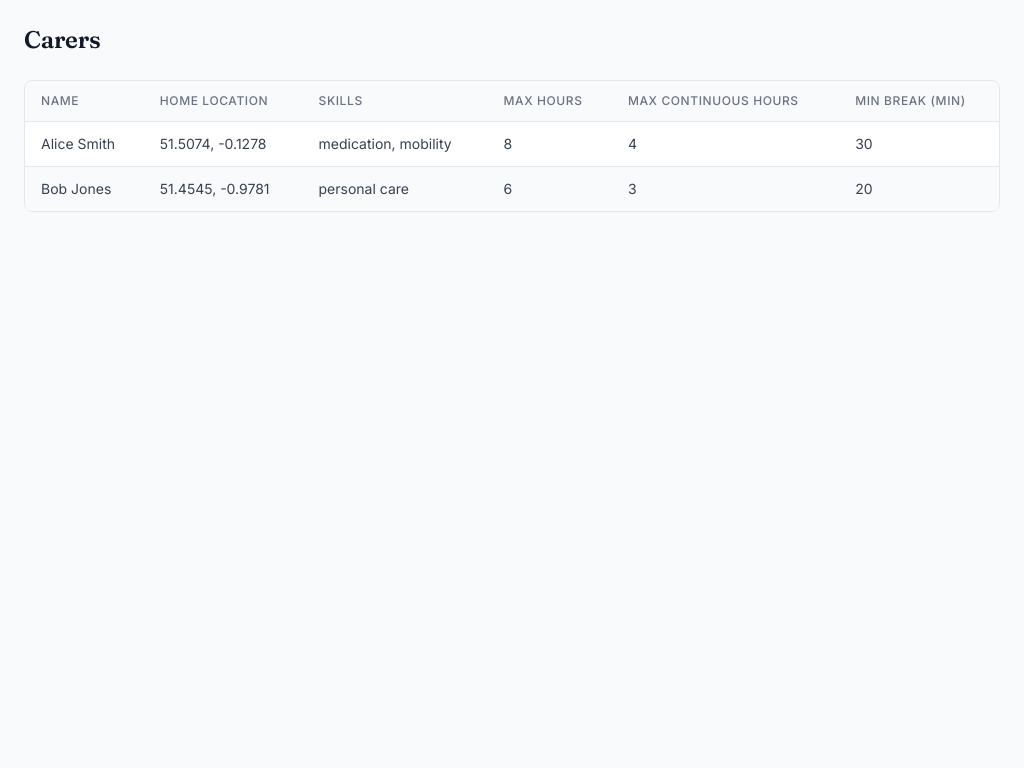
Test: CarersPage › shows error banner on failed update
Click the text "Alice Smith".
click(84, 144)  # box [25,122,144,166]
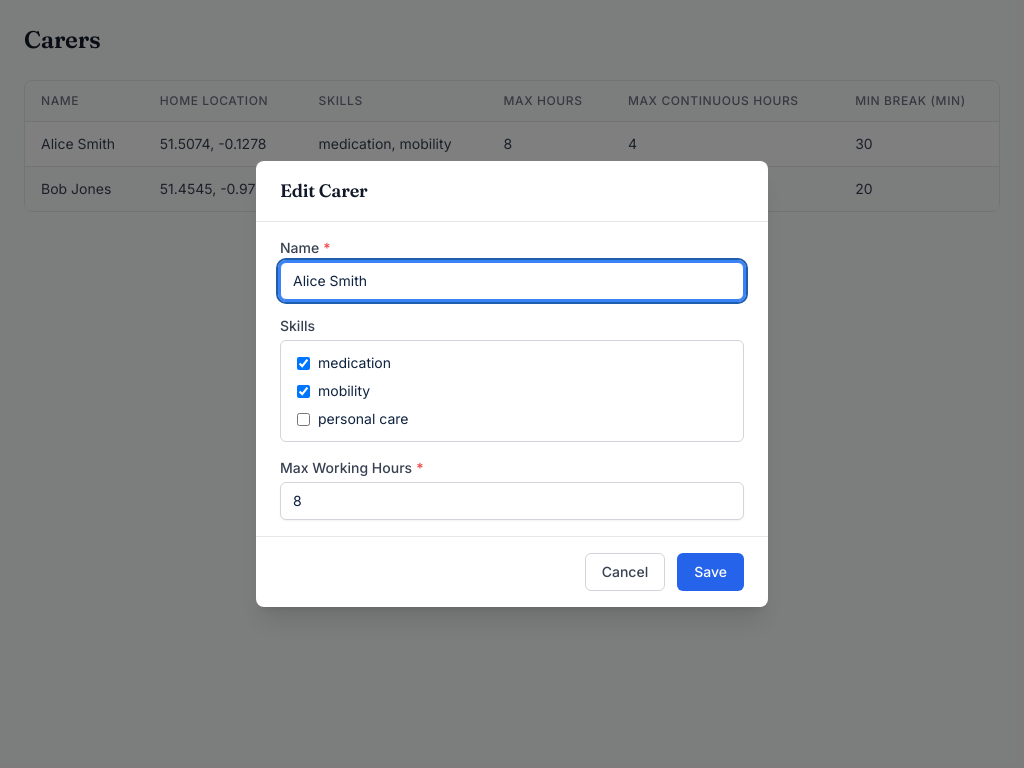
Expected: the heading "Edit Carer" is shown, [280,179,368,202]
Click the button "Save".
click(711, 572)  # box [677,553,744,591]
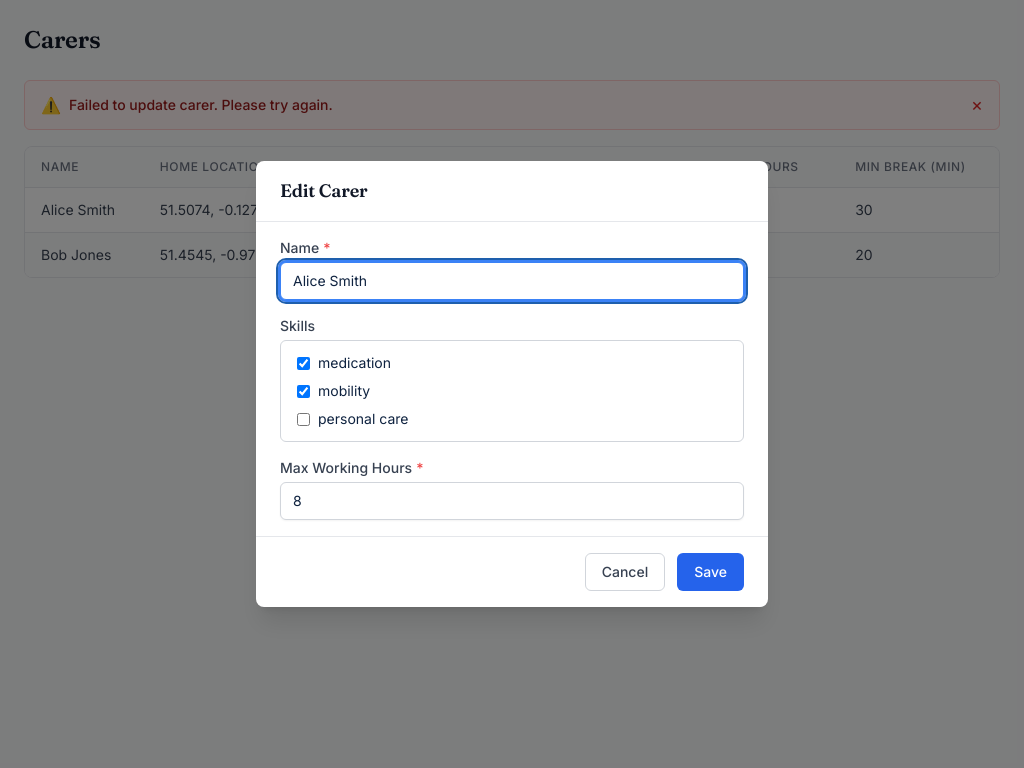
Expected: the text "Failed to update carer. Please try again." is shown, [69,95,333,115]
